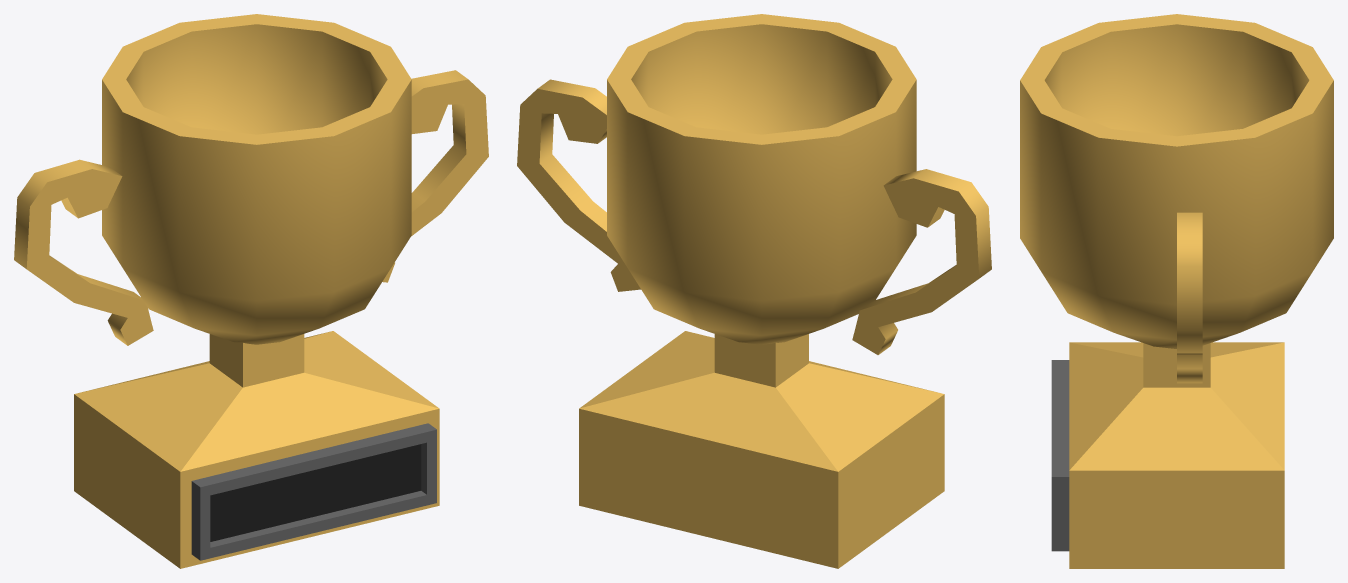
File: Icon_Archive.FBX
3 renders of one model, left to right at view 1: azimuth 30°, elevation 25°; view 2: azimuth 150°, elevation 25°; view 3: azimuth 270°, elevation 25°, orthographic.
Parts seen in each view (by area): view 1: Box001; view 2: Box001; view 3: Box001.
Part boxes in pixels (x1,y1,x2,y2): Box001: (14,14,488,568); Box001: (517,14,991,568); Box001: (1020,14,1333,568).
Size of the model in its own units: 18.04 by 15.63 by 10.47.
